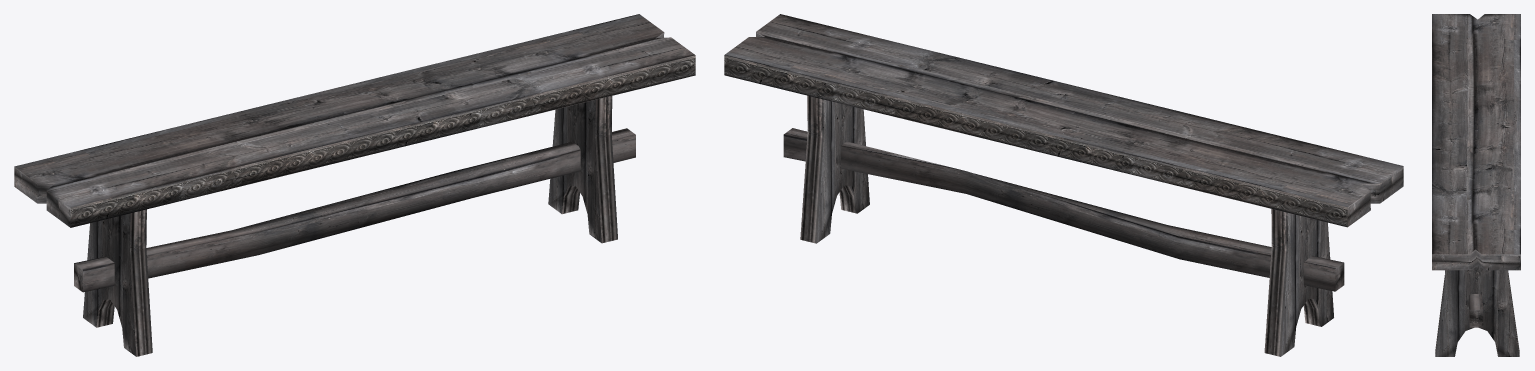
File: tavern_bench.fbx
3 renders of one model, left to right at view 1: azimuth 30°, elevation 25°; view 2: azimuth 150°, elevation 25°; view 3: azimuth 270°, elevation 25°, orthographic. The views are drawn at different scales.
Visible parts, largest first — view 1: Default_Layer; view 2: Default_Layer; view 3: Default_Layer.
Boxes of the visible parts, x1,y1,x2,y2 form: Default_Layer: [14, 14, 695, 356]; Default_Layer: [724, 14, 1403, 356]; Default_Layer: [1432, 14, 1520, 356].
Size of the model in its own units: 157 by 40.08 by 24.46.
Materials: 1 (1 with a texture image).
